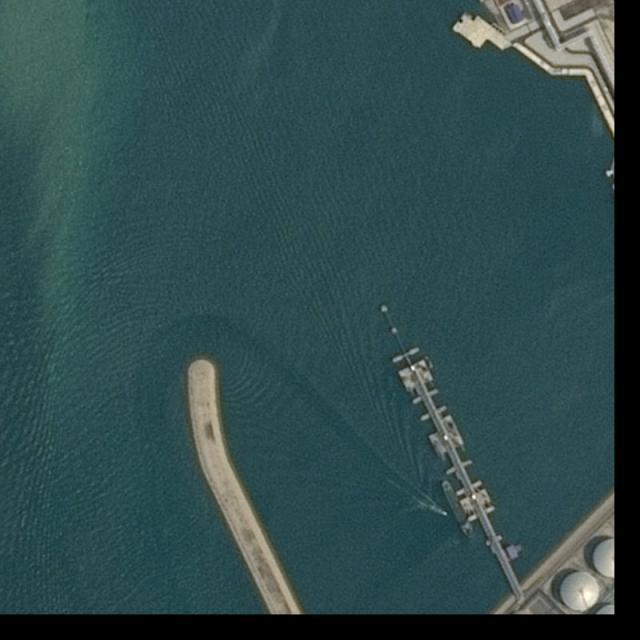ship: (438, 478, 478, 542), (442, 510, 449, 516)
